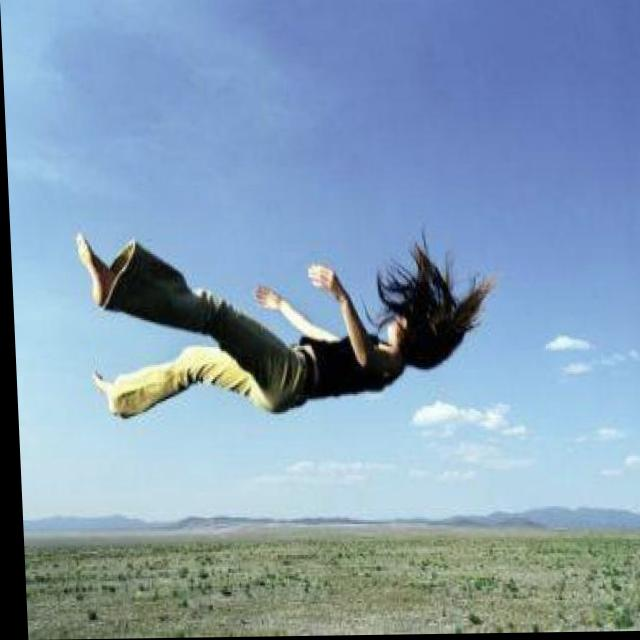fall: (71, 222, 482, 429)
